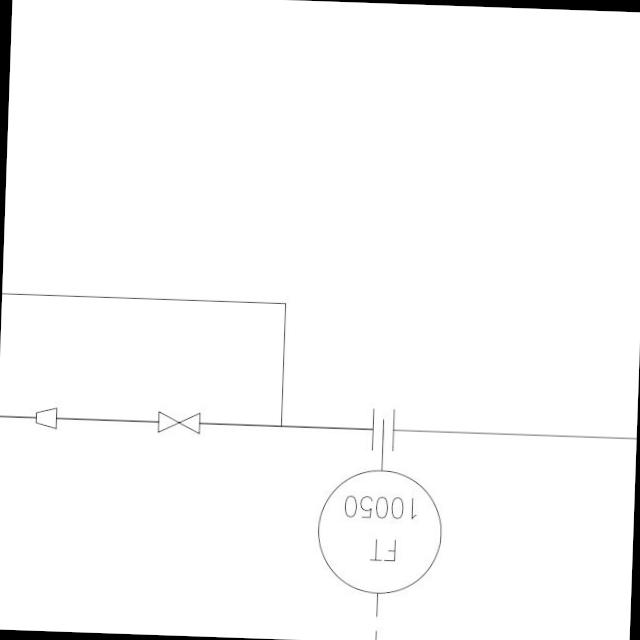GV: (152, 409, 204, 437)
SP: (30, 406, 58, 431)
